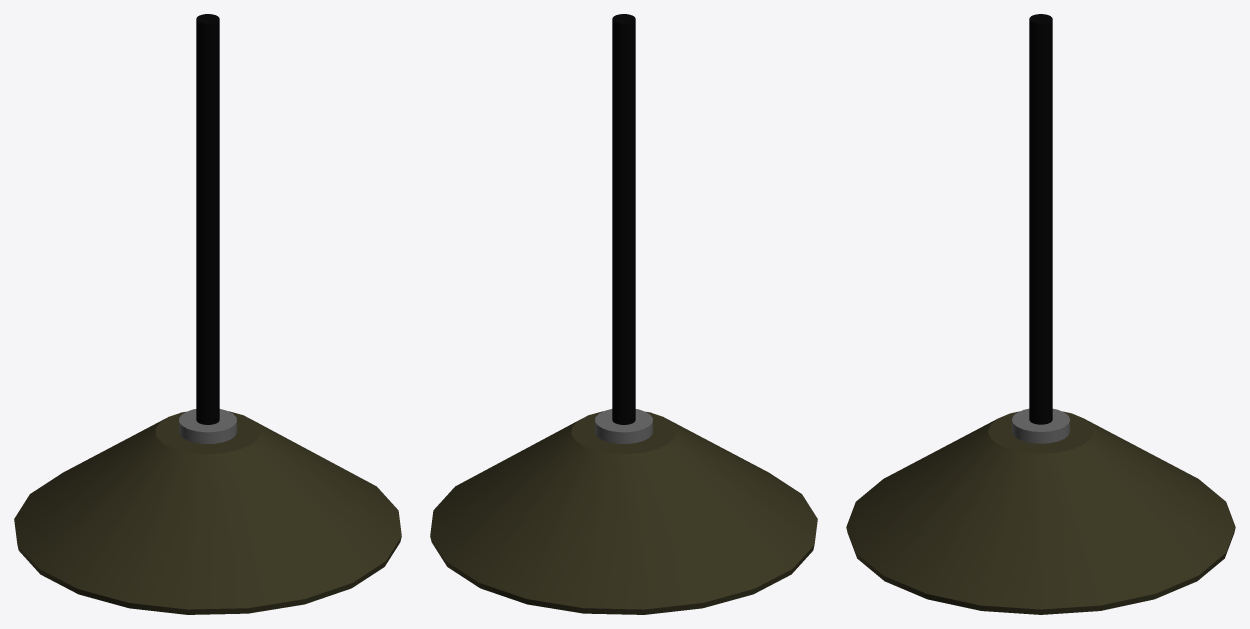
Rendered from Light.dae.
The picture shows the model from 3 angles, left to right: view 1: azimuth 30°, elevation 25°; view 2: azimuth 150°, elevation 25°; view 3: azimuth 270°, elevation 25°; orthographic projection.
Visible parts, largest first — view 1: pCylinder5; view 2: pCylinder5; view 3: pCylinder5.
Part boxes in pixels (bbox=[...]): pCylinder5: bbox=[14, 14, 401, 614]; pCylinder5: bbox=[430, 14, 817, 614]; pCylinder5: bbox=[846, 14, 1235, 614].
Size of the model in its own units: 7.37 by 10.84 by 7.37.
